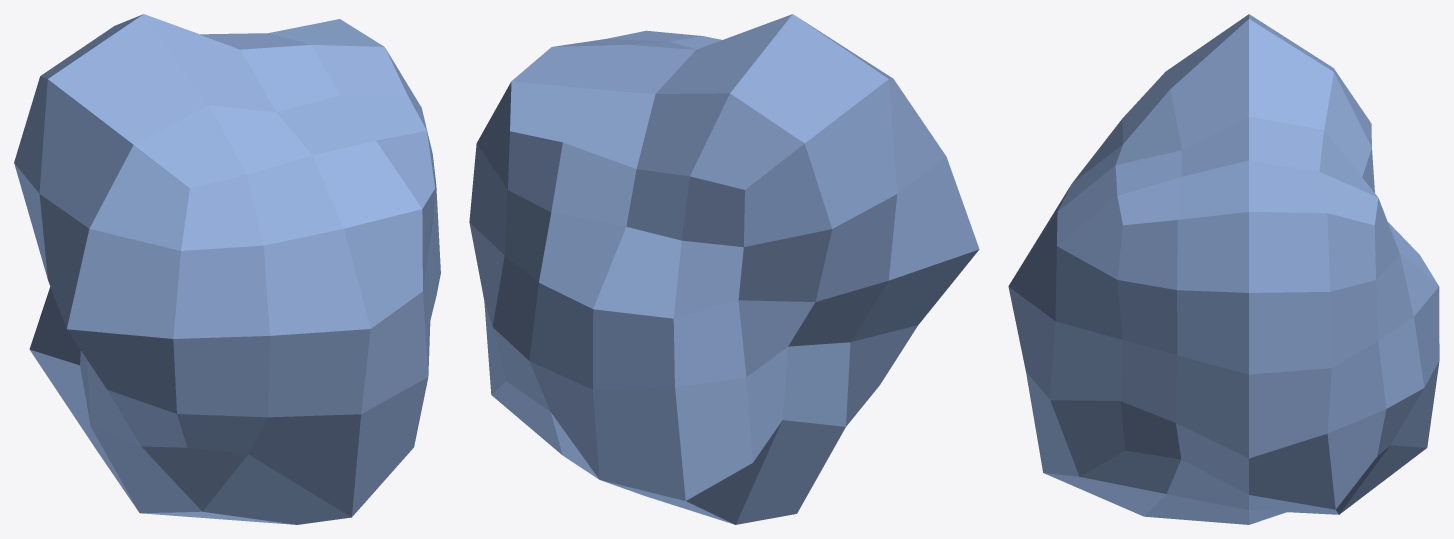
Rendered from Meteorite04001RS.fbx.
3 renders of one model, left to right at view 1: azimuth 30°, elevation 25°; view 2: azimuth 150°, elevation 25°; view 3: azimuth 270°, elevation 25°, orthographic. The views are drawn at different scales.
Visible parts, largest first — view 1: Meteorite04; view 2: Meteorite04; view 3: Meteorite04.
Part boxes in pixels (x1,y1,x2,y2): Meteorite04: (14, 14, 440, 524); Meteorite04: (469, 14, 979, 524); Meteorite04: (1008, 14, 1439, 524).
Size of the model in its own units: 356 by 398 by 336.
